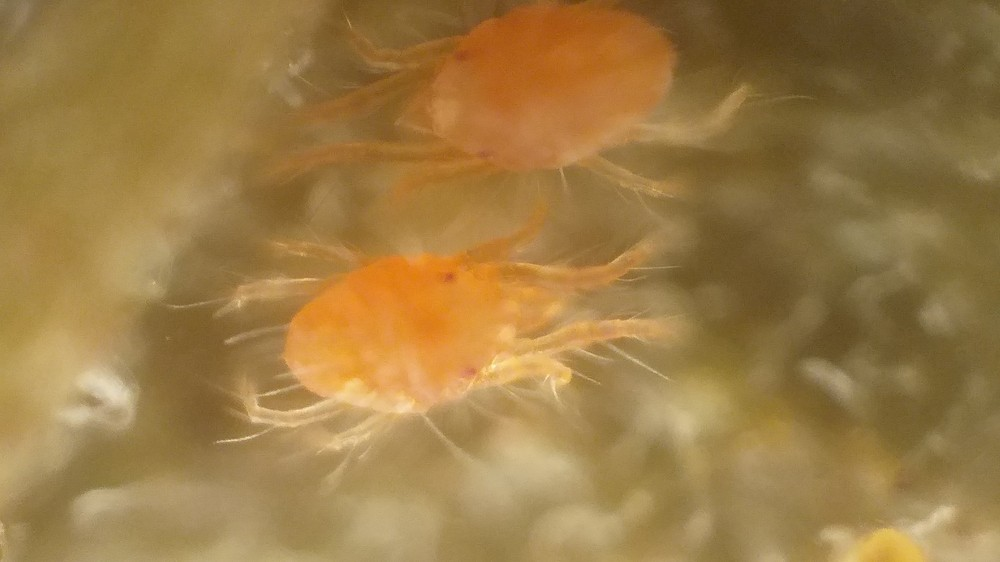Aracnido Rojo: (219, 207, 699, 462), (268, 4, 767, 211)
